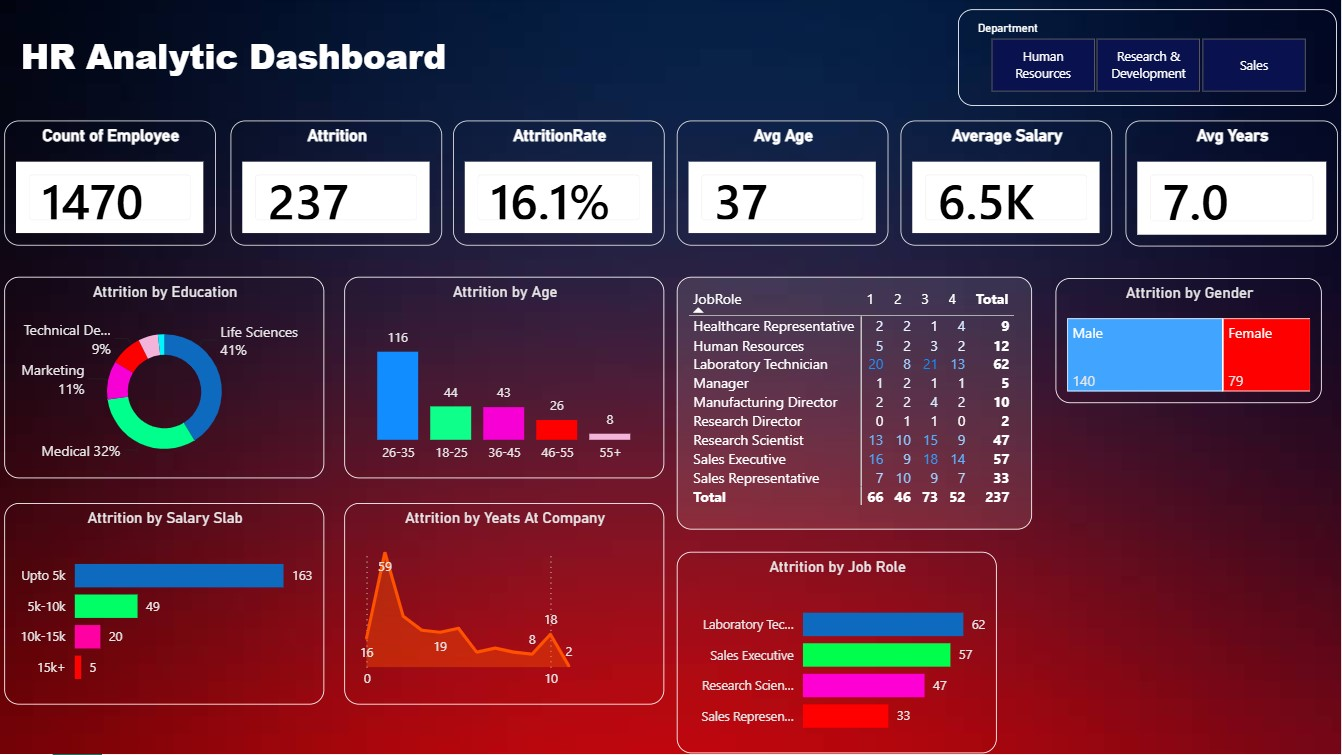

The dashboard page shown, as its layout file describes it:
{"tool":"powerbi","page":{"name":"Page 1","canvas":[1280,720],"ordinal":0},"visuals":[{"type":"cardVisual","title":"Count of Employee","fields":{"Data":["CountNonNull(HR_Analytics.EmpID)"]},"box":[5.8,116.5,201.7,119.4],"z":0},{"type":"cardVisual","title":"Attrition","fields":{"Data":["Sum(HR_Analytics.AttritionCoumn)"]},"box":[221.2,116.5,201.7,119.4],"z":1000},{"type":"cardVisual","title":"Avg Age","fields":{"Data":["Avg(HR_Analytics.Age)"]},"box":[646.6,116.5,201.7,119.4],"z":2000},{"type":"cardVisual","title":"AttritionRate","fields":{"Data":["HR_Analytics.AttritionRate"]},"box":[433.9,116.5,201.7,119.4],"z":3000},{"type":"cardVisual","title":"Average Salary","fields":{"Data":["Avg(HR_Analytics.MonthlyIncome)"]},"box":[859.3,116.5,201.7,119.4],"z":3001},{"type":"cardVisual","title":"Avg Years","fields":{"Data":["Avg(HR_Analytics.YearsAtCompany)"]},"box":[1073.6,116.5,202.4,120.2],"z":3002},{"type":"donutChart","title":"Attrition by Education","fields":{"Category":["HR_Analytics.EducationField"],"Y":["CountNonNull(HR_Analytics.Attrition)"]},"box":[6,265.6,304.8,191.7],"z":3003},{"type":"columnChart","title":"Attrition by Age","fields":{"Category":["HR_Analytics.AgeGroup"],"Y":["Sum(HR_Analytics.AttritionCount)"]},"box":[329.8,265.6,304.8,191.7],"z":3004},{"type":"pivotTable","fields":{"Rows":["HR_Analytics.JobRole"],"Columns":["HR_Analytics.JobSatisfaction"],"Values":["Sum(HR_Analytics.AttritionCount)"]},"box":[646.4,265.6,338.1,240.5],"z":3005},{"type":"barChart","title":"Attrition by Salary Slab","fields":{"Category":["HR_Analytics.SalarySlab"],"Y":["Sum(HR_Analytics.AttritionCount)"]},"box":[6,481,304.8,191.7],"z":3006},{"type":"barChart","title":"Attrition by Job Role","fields":{"Y":["Sum(HR_Analytics.AttritionCount)"],"Category":["HR_Analytics.JobRole"]},"box":[646.4,527.5,304.8,191.7],"z":3007},{"type":"areaChart","title":"Attrition by Yeats At Company","fields":{"Category":["HR_Analytics.YearsAtCompany"],"Y":["Sum(HR_Analytics.AttritionCount)"]},"box":[329.8,481,304.8,191.7],"z":3008},{"type":"treemap","title":"Attrition by Gender","fields":{"Group":["HR_Analytics.Gender"],"Values":["Sum(HR_Analytics.AttritionCount)"]},"box":[1007.2,266.2,253.9,119.4],"z":3009},{"type":"slicer","fields":{"Values":["HR_Analytics.Department"]},"box":[913.9,11,360.9,91.9],"z":3010},{"type":"textbox","box":[16.5,27.4,433.6,59],"z":3011}]}

Visuals, with their boxes in screenshot pixels (x1, y1, x2, y2), scaled from the page's 1280x720 canvas onto the 1342x755 screenshot:
"Count of Employee" cardVisual: bbox=[6, 122, 218, 247]
"Attrition" cardVisual: bbox=[232, 122, 443, 247]
"Avg Age" cardVisual: bbox=[678, 122, 889, 247]
"AttritionRate" cardVisual: bbox=[455, 122, 666, 247]
"Average Salary" cardVisual: bbox=[901, 122, 1112, 247]
"Avg Years" cardVisual: bbox=[1126, 122, 1338, 248]
"Attrition by Education" donutChart: bbox=[6, 279, 326, 480]
"Attrition by Age" columnChart: bbox=[346, 279, 665, 480]
pivotTable - HR_Analytics.JobRole x HR_Analytics.JobSatisfaction: bbox=[678, 279, 1032, 531]
"Attrition by Salary Slab" barChart: bbox=[6, 504, 326, 705]
"Attrition by Job Role" barChart: bbox=[678, 553, 997, 754]
"Attrition by Yeats At Company" areaChart: bbox=[346, 504, 665, 705]
"Attrition by Gender" treemap: bbox=[1056, 279, 1322, 404]
slicer - HR_Analytics.Department: bbox=[958, 12, 1337, 108]
textbox: bbox=[17, 29, 472, 91]
